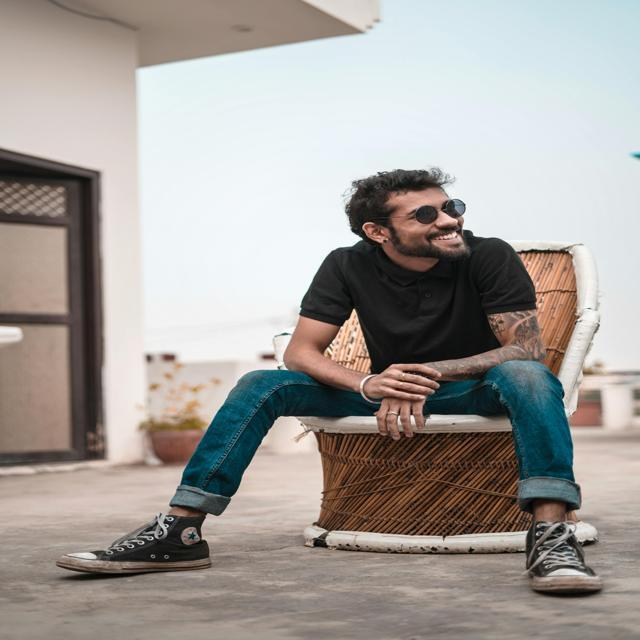2_gafas: (378, 197, 466, 225)
